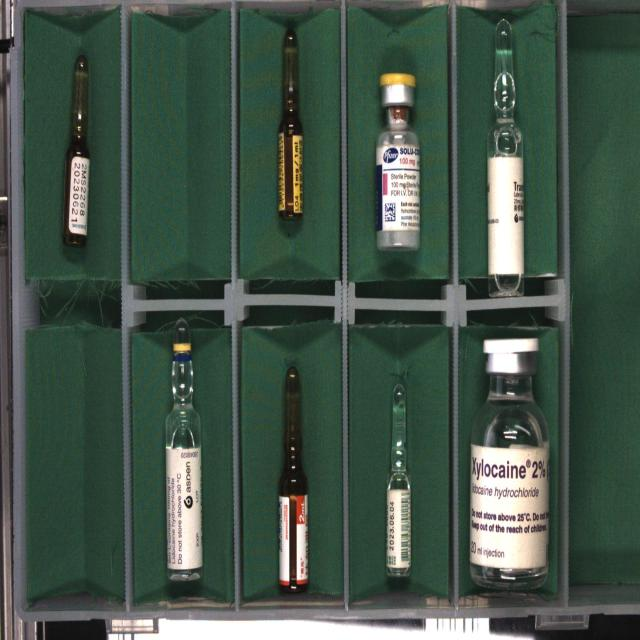Vials: (469, 338, 549, 589), (376, 73, 419, 250)
